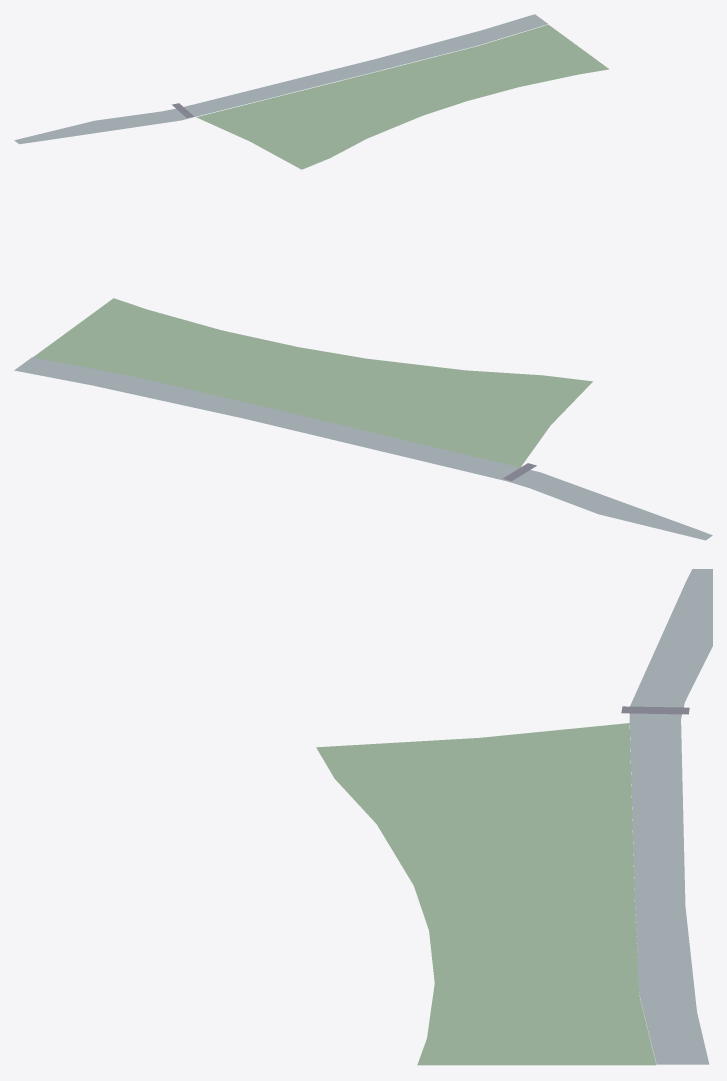
The model's file is 126_120_mid.glb.
The picture shows the model from 3 angles, top to bottom: view 1: azimuth 30°, elevation 25°; view 2: azimuth 150°, elevation 25°; view 3: azimuth 270°, elevation 25°; orthographic projection. The views are drawn at different scales.
Bounding box in the file's own units: 500 × 3.96 × 298.
